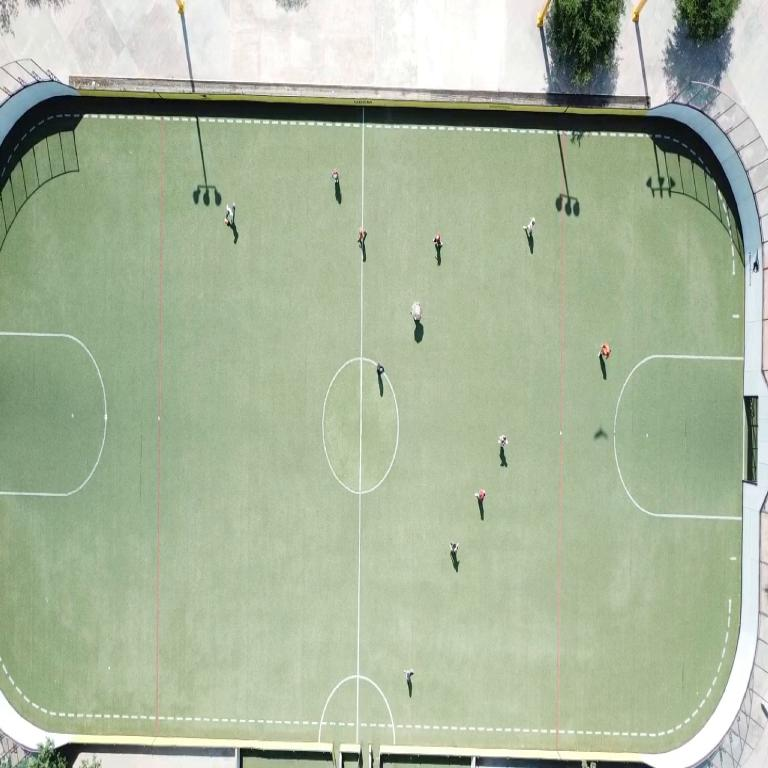AC: (614, 355, 742, 521), (0, 331, 107, 498)
B: (224, 219, 230, 226)
MC: (356, 107, 364, 742)
P: (411, 301, 422, 323), (225, 203, 235, 226), (524, 218, 535, 237), (599, 344, 610, 360), (433, 232, 442, 248), (404, 668, 413, 684), (498, 435, 508, 449), (475, 489, 485, 503), (450, 542, 458, 558), (359, 227, 366, 245), (377, 363, 384, 377), (332, 168, 338, 184)
